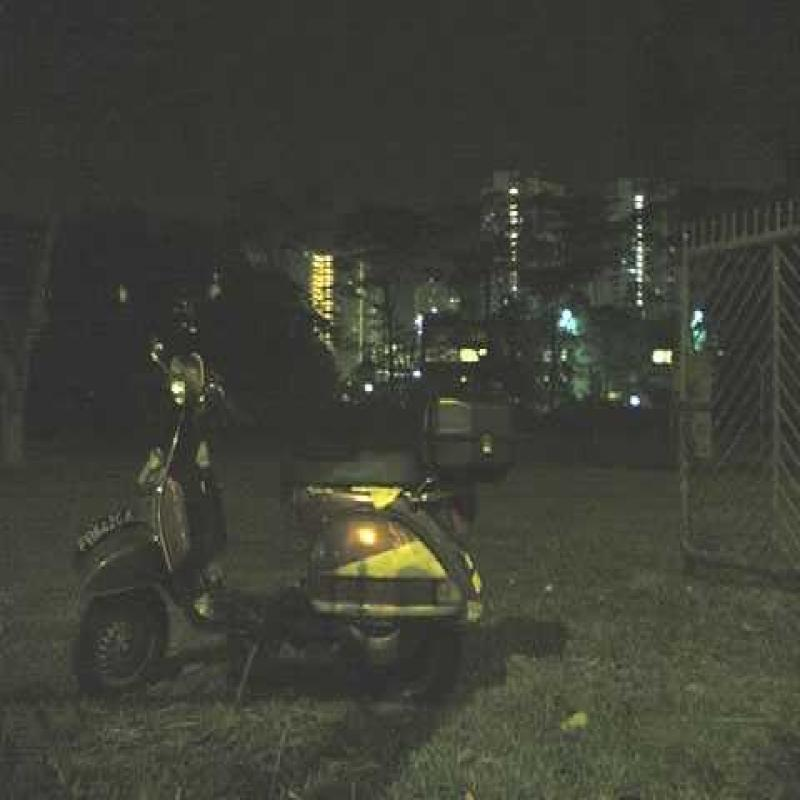bike: (75, 298, 494, 693)
